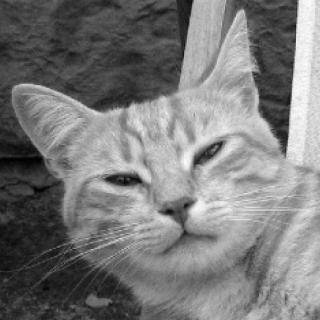cat: (17, 65, 298, 286)
nose: (155, 188, 203, 237)
